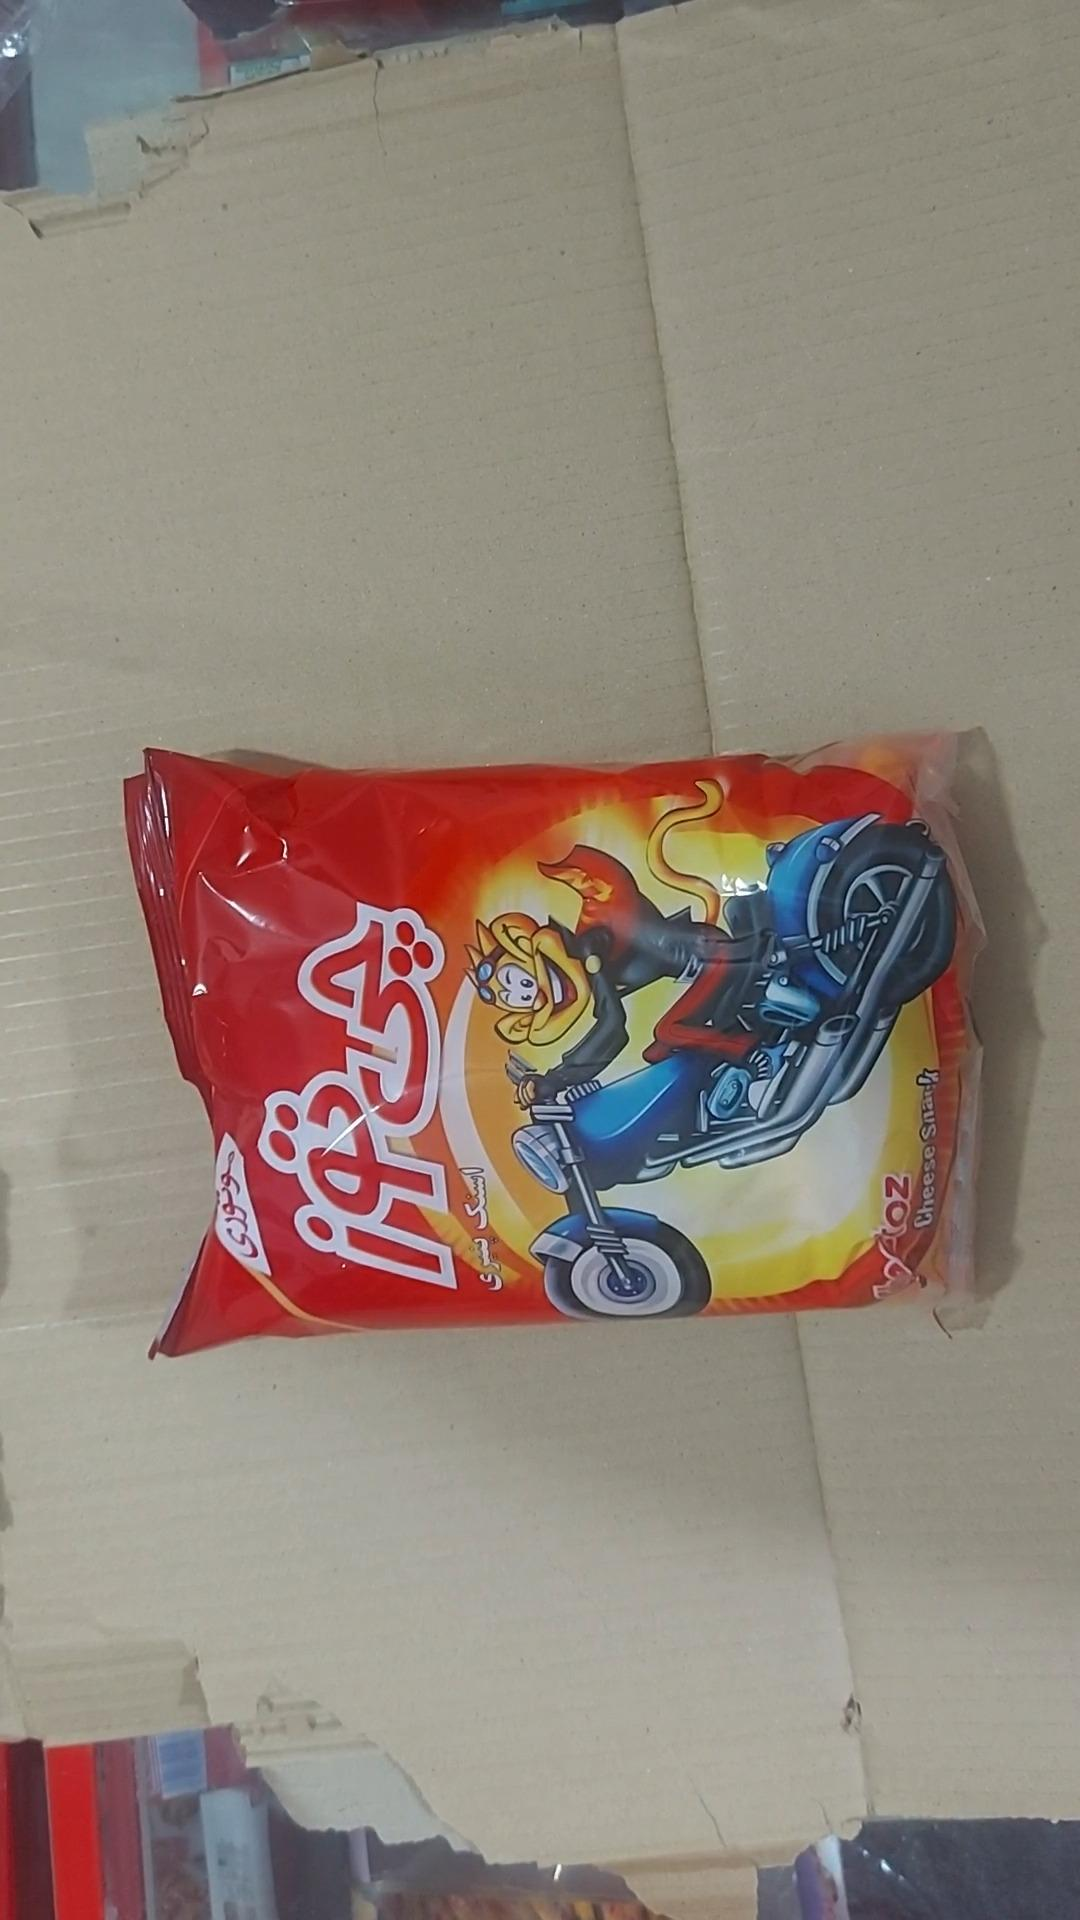Cheetoz snack 90g: (123, 735, 986, 1361)
